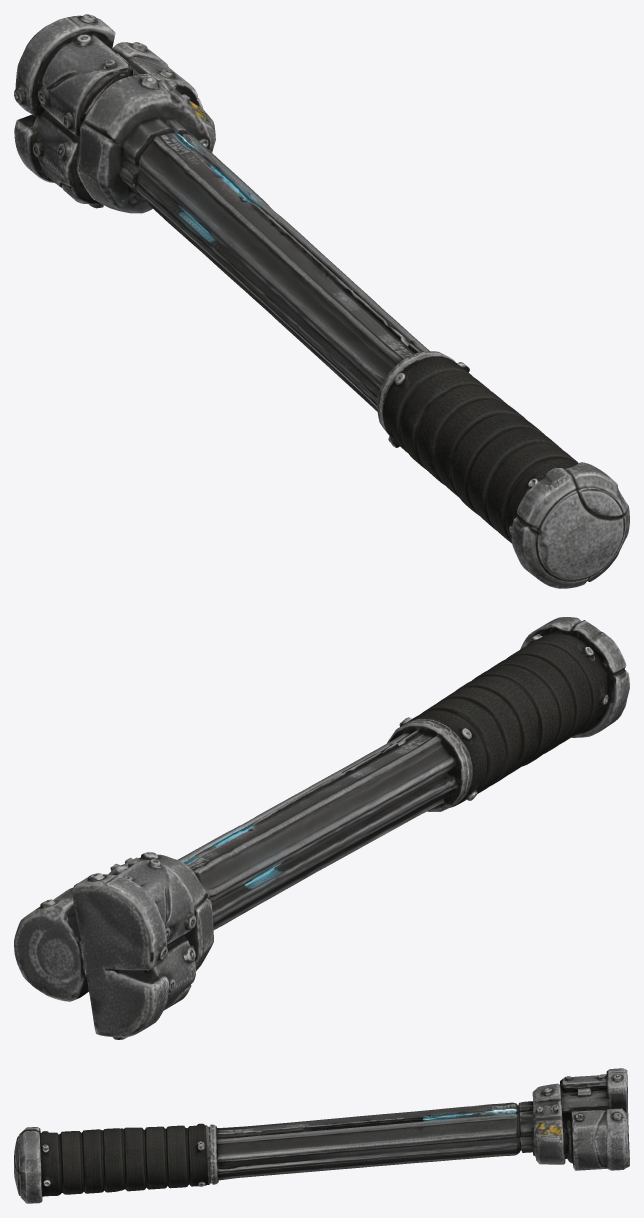
The model's file is viewmodel_iron_rod_reference_raw_for_blender.glb.
3 renders of one model, top to bottom at view 1: azimuth 30°, elevation 25°; view 2: azimuth 150°, elevation 25°; view 3: azimuth 270°, elevation 25°, orthographic. The views are drawn at different scales.
Visible parts, largest first — view 1: hp_reference_node_3e9b2563-ac74-47e3-97c7-86e0e43db424; view 2: hp_reference_node_3e9b2563-ac74-47e3-97c7-86e0e43db424; view 3: hp_reference_node_3e9b2563-ac74-47e3-97c7-86e0e43db424.
Part boxes in pixels (bbox=[...]): hp_reference_node_3e9b2563-ac74-47e3-97c7-86e0e43db424: bbox=[14, 14, 629, 588]; hp_reference_node_3e9b2563-ac74-47e3-97c7-86e0e43db424: bbox=[14, 617, 629, 1039]; hp_reference_node_3e9b2563-ac74-47e3-97c7-86e0e43db424: bbox=[14, 1068, 629, 1203].
Size of the model in its own units: 0.1666 by 0.2215 by 0.9801.
1 material, 1 textured.
